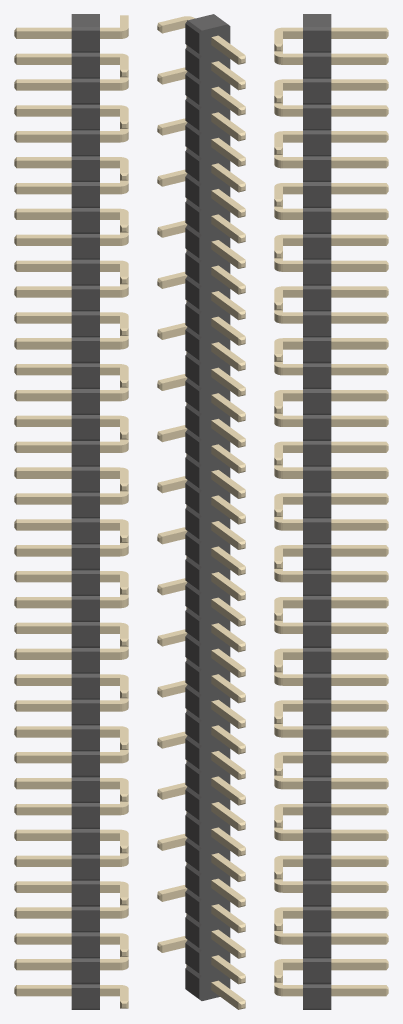
The model's file is PinHeader_1x38_P1.00mm_Vertical_SMD_Pin1Left.glb.
The picture shows the model from 3 angles, left to right: view 1: azimuth 90°, elevation 25°; view 2: azimuth 210°, elevation 25°; view 3: azimuth 270°, elevation 25°; orthographic projection.
Visible parts, largest first — view 1: Shape_IndexedFaceSet.139, Shape_IndexedFaceSet.187, Shape_IndexedFaceSet.007, Shape_IndexedFaceSet.013, Shape_IndexedFaceSet.049, Shape_IndexedFaceSet.055, Shape_IndexedFaceSet.061, Shape_IndexedFaceSet.097, Shape_IndexedFaceSet.103, Shape_IndexedFaceSet.109, Shape_IndexedFaceSet.145, Shape_IndexedFaceSet.151 (+65 smaller); view 2: Shape_IndexedFaceSet.004, Shape_IndexedFaceSet.001, Shape_IndexedFaceSet.046, Shape_IndexedFaceSet.130, Shape_IndexedFaceSet.208, Shape_IndexedFaceSet.010, Shape_IndexedFaceSet.022, Shape_IndexedFaceSet.034, Shape_IndexedFaceSet.040, Shape_IndexedFaceSet.052, Shape_IndexedFaceSet.064, Shape_IndexedFaceSet.076 (+28 smaller); view 3: Shape_IndexedFaceSet.136, Shape_IndexedFaceSet.184, Shape_IndexedFaceSet.002, Shape_IndexedFaceSet.010, Shape_IndexedFaceSet.046, Shape_IndexedFaceSet.052, Shape_IndexedFaceSet.058, Shape_IndexedFaceSet.094, Shape_IndexedFaceSet.100, Shape_IndexedFaceSet.106, Shape_IndexedFaceSet.142, Shape_IndexedFaceSet.148 (+65 smaller).
Part boxes in pixels (x1,y1,x2,y2): Shape_IndexedFaceSet.139: [71, 599, 99, 620]; Shape_IndexedFaceSet.187: [71, 806, 99, 827]; Shape_IndexedFaceSet.007: [71, 30, 99, 51]; Shape_IndexedFaceSet.013: [71, 56, 99, 77]; Shape_IndexedFaceSet.049: [71, 211, 99, 232]; Shape_IndexedFaceSet.055: [71, 237, 99, 258]; Shape_IndexedFaceSet.061: [71, 263, 99, 284]; Shape_IndexedFaceSet.097: [71, 418, 99, 439]; Shape_IndexedFaceSet.103: [71, 444, 99, 465]; Shape_IndexedFaceSet.109: [71, 470, 99, 491]; Shape_IndexedFaceSet.145: [71, 625, 99, 646]; Shape_IndexedFaceSet.151: [71, 651, 99, 672]; Shape_IndexedFaceSet.004: [199, 24, 230, 1000]; Shape_IndexedFaceSet.001: [188, 14, 227, 30]; Shape_IndexedFaceSet.046: [185, 202, 199, 232]; Shape_IndexedFaceSet.130: [185, 560, 199, 590]; Shape_IndexedFaceSet.208: [185, 892, 199, 922]; Shape_IndexedFaceSet.010: [185, 49, 199, 79]; Shape_IndexedFaceSet.022: [185, 100, 199, 130]; Shape_IndexedFaceSet.034: [185, 151, 199, 181]; Shape_IndexedFaceSet.040: [185, 177, 199, 206]; Shape_IndexedFaceSet.052: [185, 228, 199, 257]; Shape_IndexedFaceSet.064: [185, 279, 199, 309]; Shape_IndexedFaceSet.076: [185, 330, 199, 360]; Shape_IndexedFaceSet.136: [303, 599, 331, 620]; Shape_IndexedFaceSet.184: [303, 806, 331, 827]; Shape_IndexedFaceSet.002: [303, 30, 331, 51]; Shape_IndexedFaceSet.010: [303, 56, 331, 77]; Shape_IndexedFaceSet.046: [303, 211, 331, 232]; Shape_IndexedFaceSet.052: [303, 237, 331, 258]; Shape_IndexedFaceSet.058: [303, 263, 331, 284]; Shape_IndexedFaceSet.094: [303, 418, 331, 439]; Shape_IndexedFaceSet.100: [303, 444, 331, 465]; Shape_IndexedFaceSet.106: [303, 470, 331, 491]; Shape_IndexedFaceSet.142: [303, 625, 331, 646]; Shape_IndexedFaceSet.148: [303, 651, 331, 672].
Bounding box in the file's own units: 0.984 × 14.96 × 1.58.
